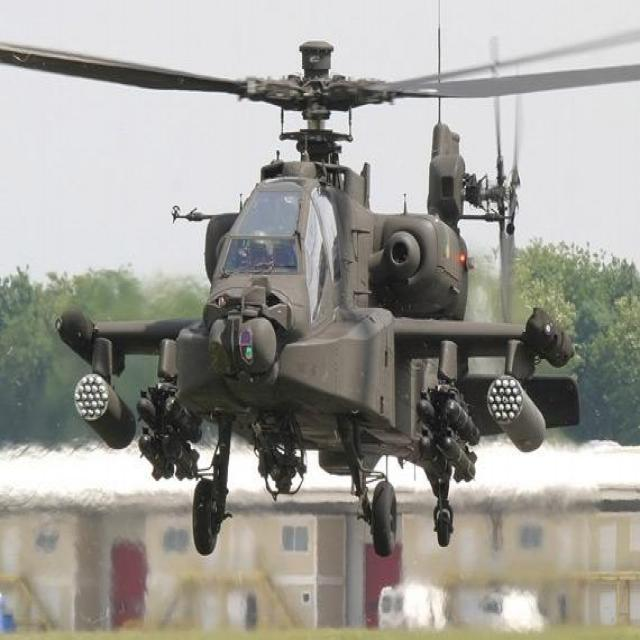MIL_HELO: (0, 15, 640, 563)
